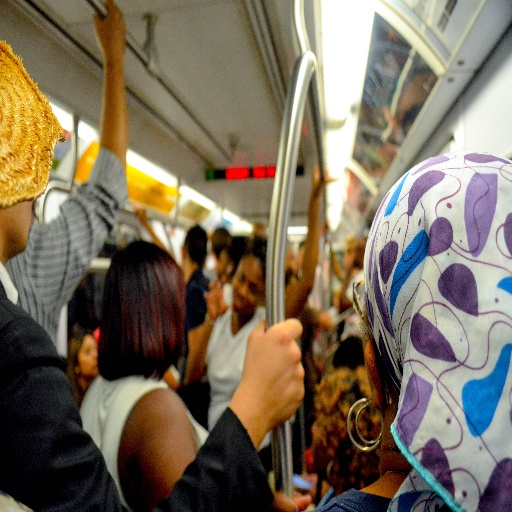hand: (232, 324, 313, 440), (92, 0, 125, 58), (202, 273, 232, 321), (311, 166, 333, 199), (274, 492, 312, 511), (134, 205, 147, 224)
